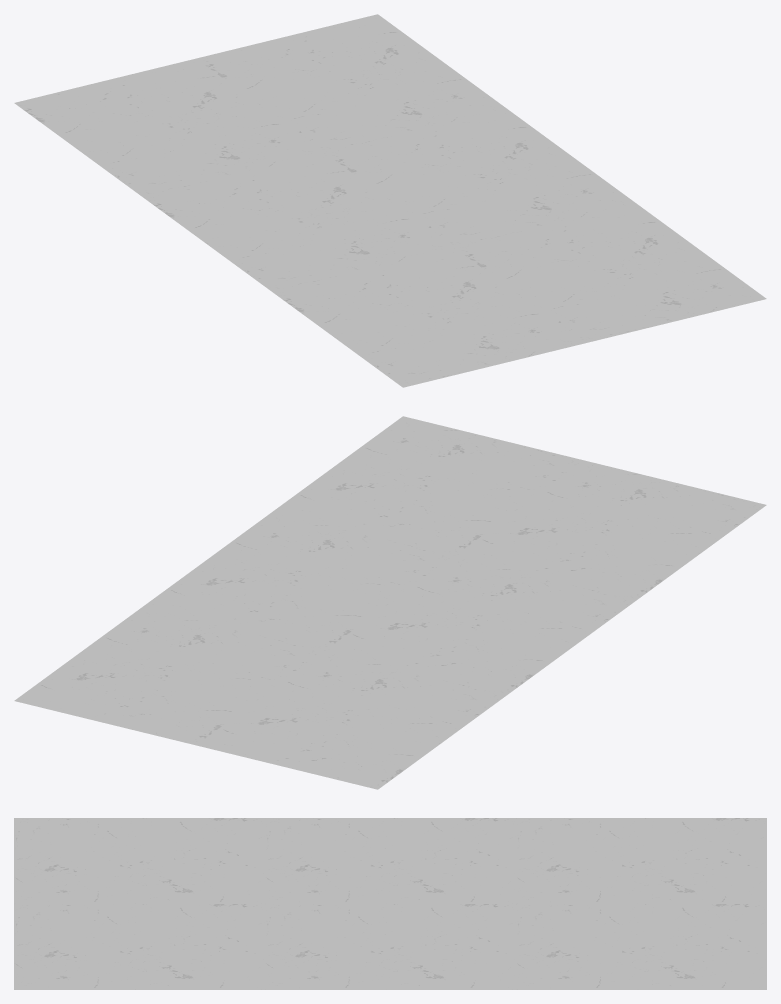
Rendered from Roof_AirLock.fbx.
3 views of the same model, one above another, from view 1: azimuth 30°, elevation 25°; view 2: azimuth 150°, elevation 25°; view 3: azimuth 270°, elevation 25° (orthographic). The views are drawn at different scales.
Parts seen in each view (by area): view 1: AirlockRoof; view 2: AirlockRoof; view 3: AirlockRoof.
Part boxes in pixels (x1,y1,x2,y2): AirlockRoof: [14, 14, 766, 387]; AirlockRoof: [14, 416, 766, 789]; AirlockRoof: [14, 818, 766, 989].
Bounding box in the file's own units: 13.03 × 0.000142 × 24.14.
